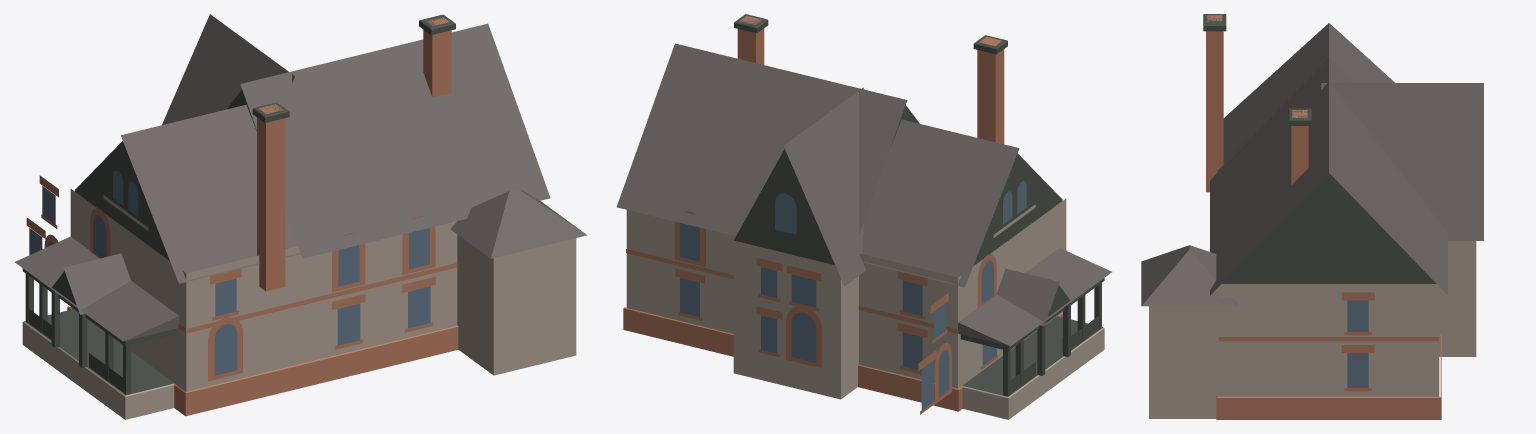
The model's file is den-molly-brown-house.glb.
3 views of the same model, side by side, from view 1: azimuth 30°, elevation 25°; view 2: azimuth 150°, elevation 25°; view 3: azimuth 270°, elevation 25° (orthographic). The views are drawn at different scales.
Visible parts, largest first — view 1: Molly Brown House Museum; view 2: Molly Brown House Museum; view 3: Molly Brown House Museum.
Part boxes in pixels (x1,y1,x2,y2): Molly Brown House Museum: (15, 14, 586, 419); Molly Brown House Museum: (616, 14, 1111, 419); Molly Brown House Museum: (1141, 14, 1483, 419).
Size of the model in its own units: 23.8 by 15.8 by 19.65.
